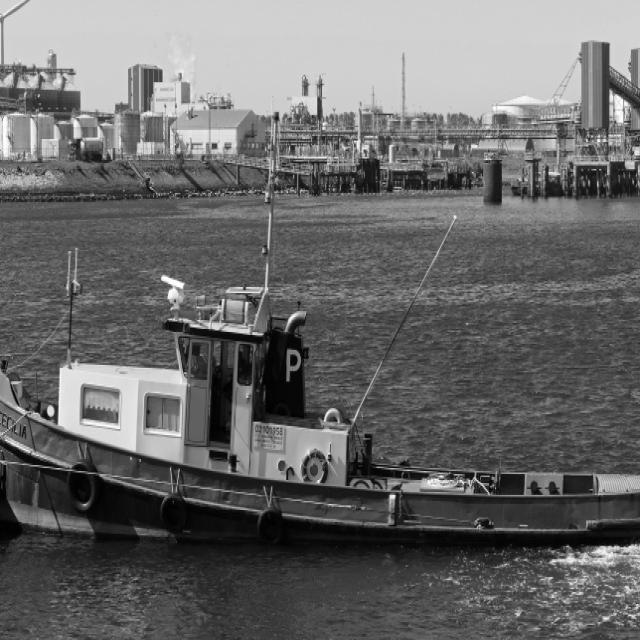tugboat: (1, 109, 640, 569)
